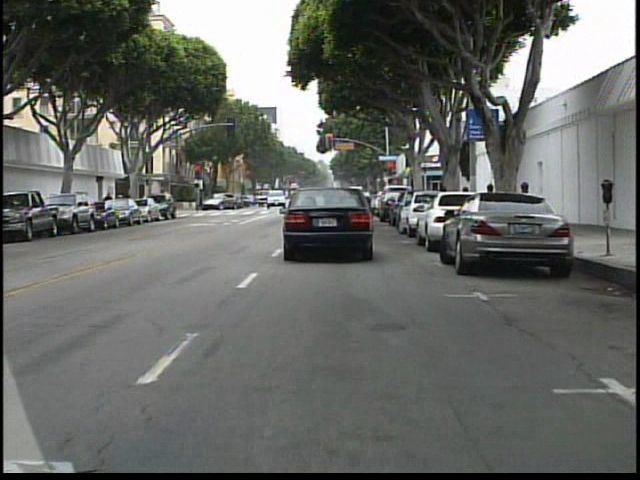person: (102, 189, 117, 221), (193, 189, 209, 214)
